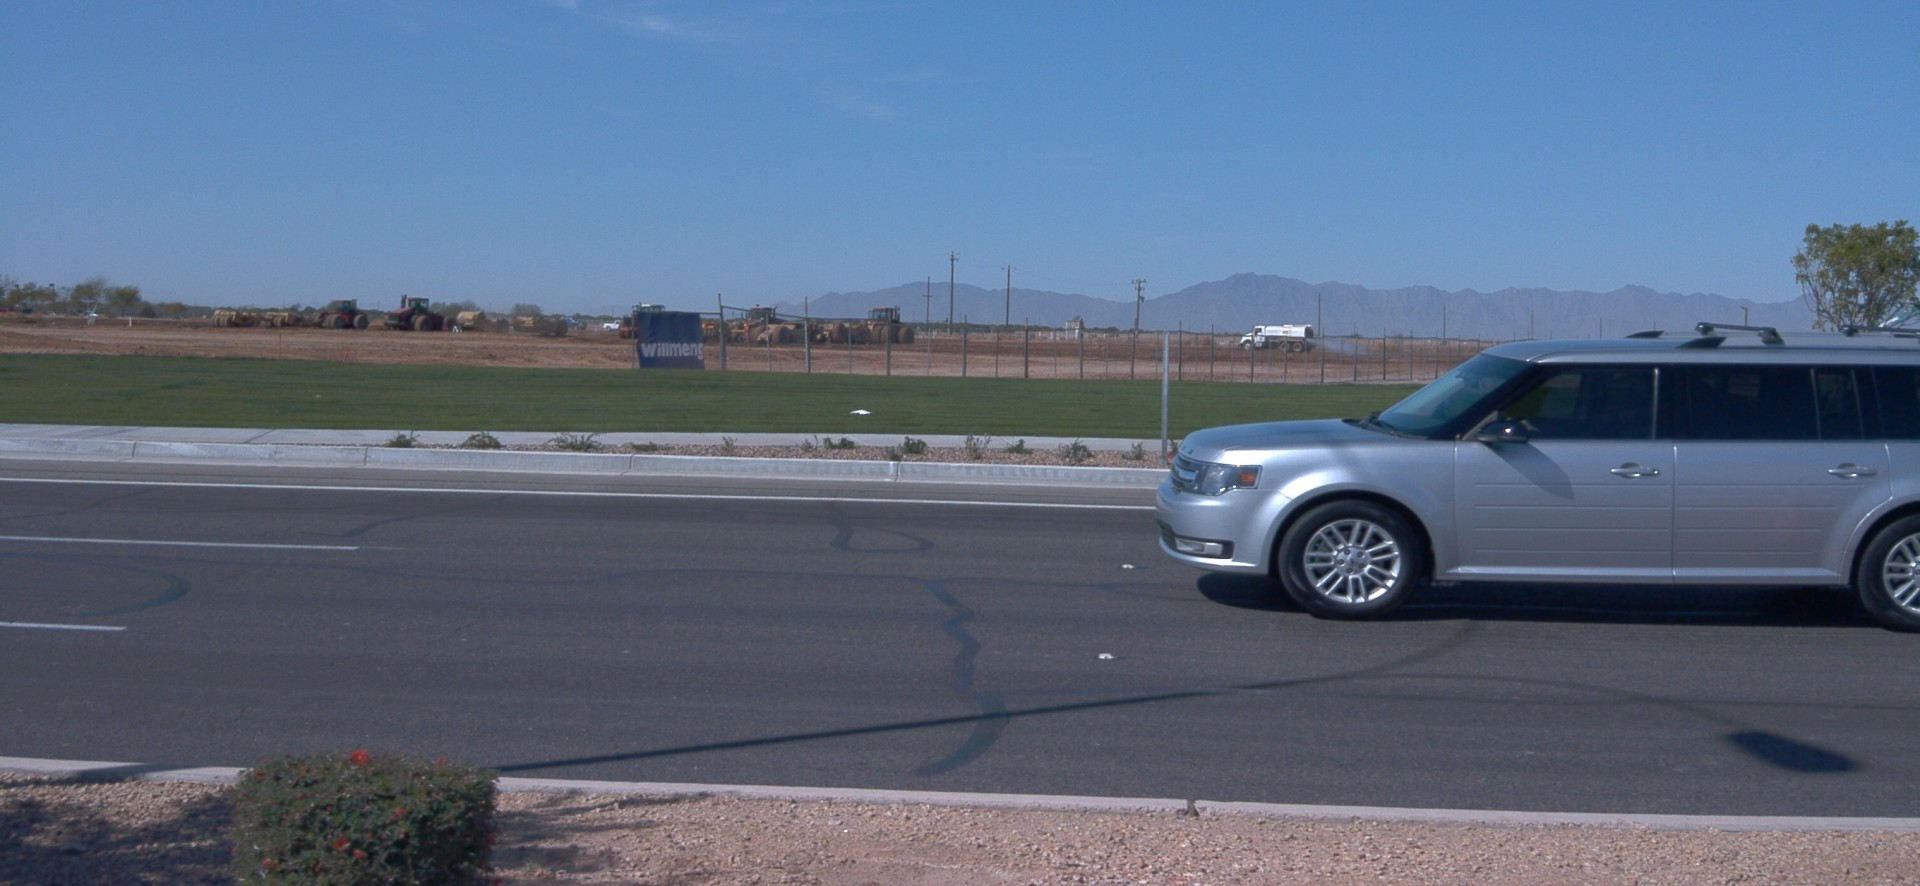TYPE_VEHICLE: (1152, 323, 1920, 631), (1842, 286, 1918, 338), (379, 293, 458, 333), (1238, 321, 1317, 356), (855, 303, 919, 344), (732, 300, 783, 345), (304, 297, 369, 332), (615, 299, 666, 339), (754, 321, 825, 344), (214, 309, 297, 325), (702, 312, 737, 343), (603, 317, 626, 330), (557, 315, 580, 328)
